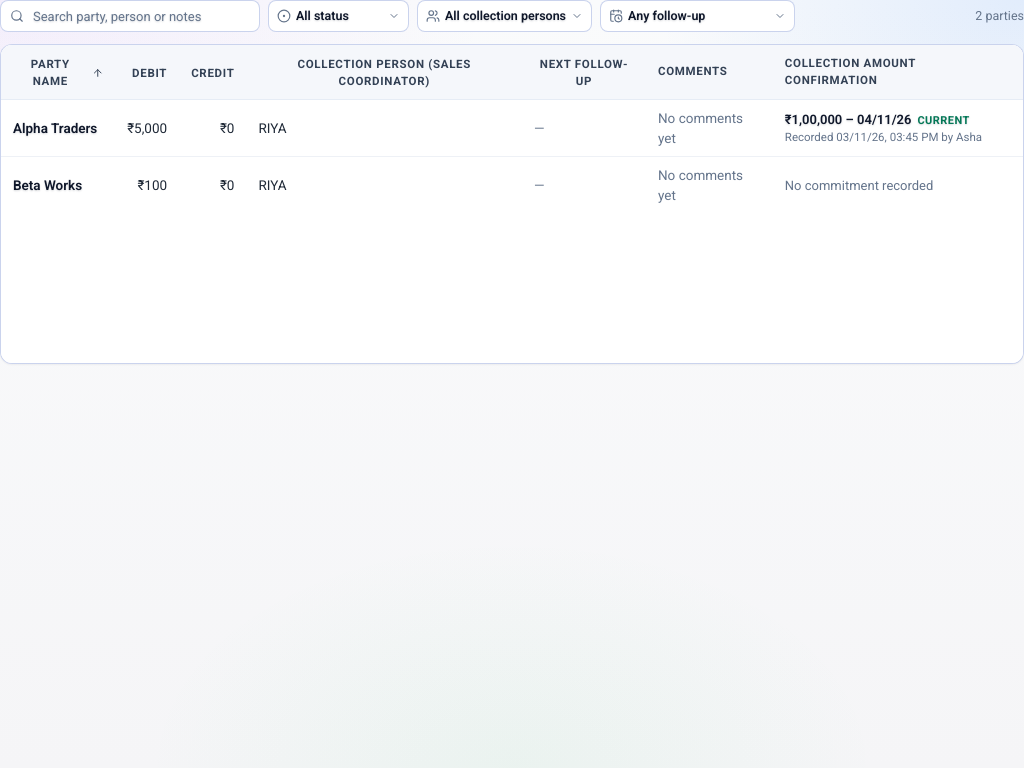
Test case: the popup's commitment history › a refused save keeps the history as it was and refreshes nothing
This screenshot has width=1024, height=768.
Click the button "Alpha Traders": {"x": 55, "y": 128} x1=13 y1=118 x2=97 y2=138
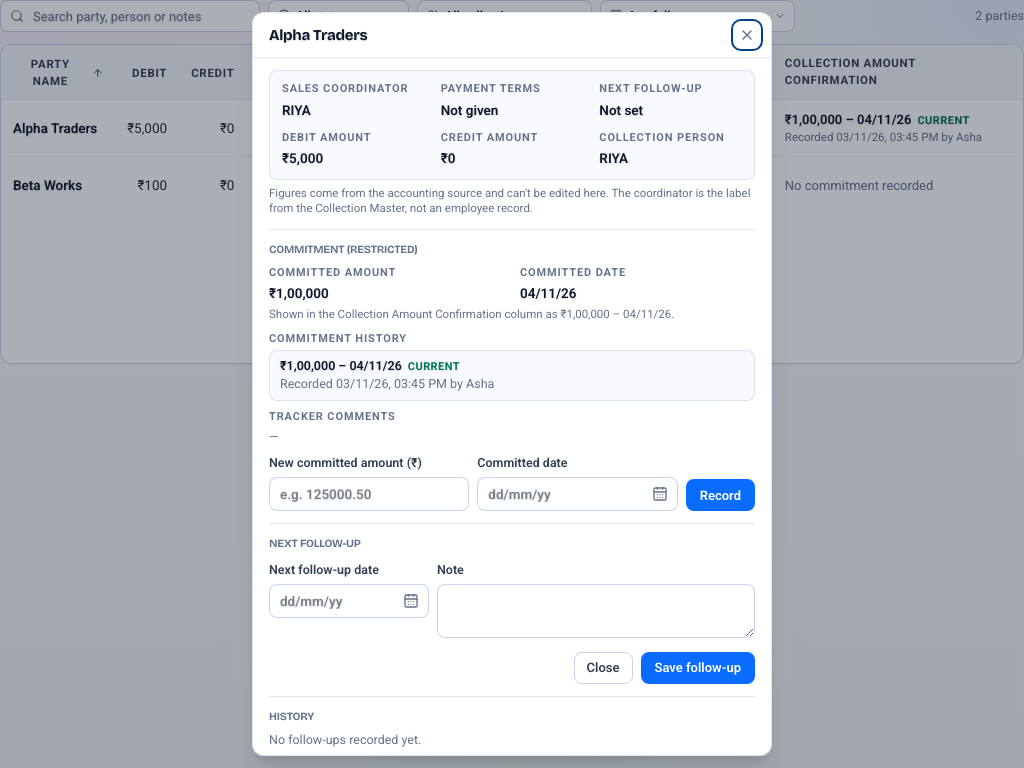
Expected: the list named "Commitment history" is shown, x1=269 y1=350 x2=755 y2=401
In the field named "Committed amount for Alpha Traders": {"x": 369, "y": 494} x1=269 y1=477 x2=469 y2=512, type "1"
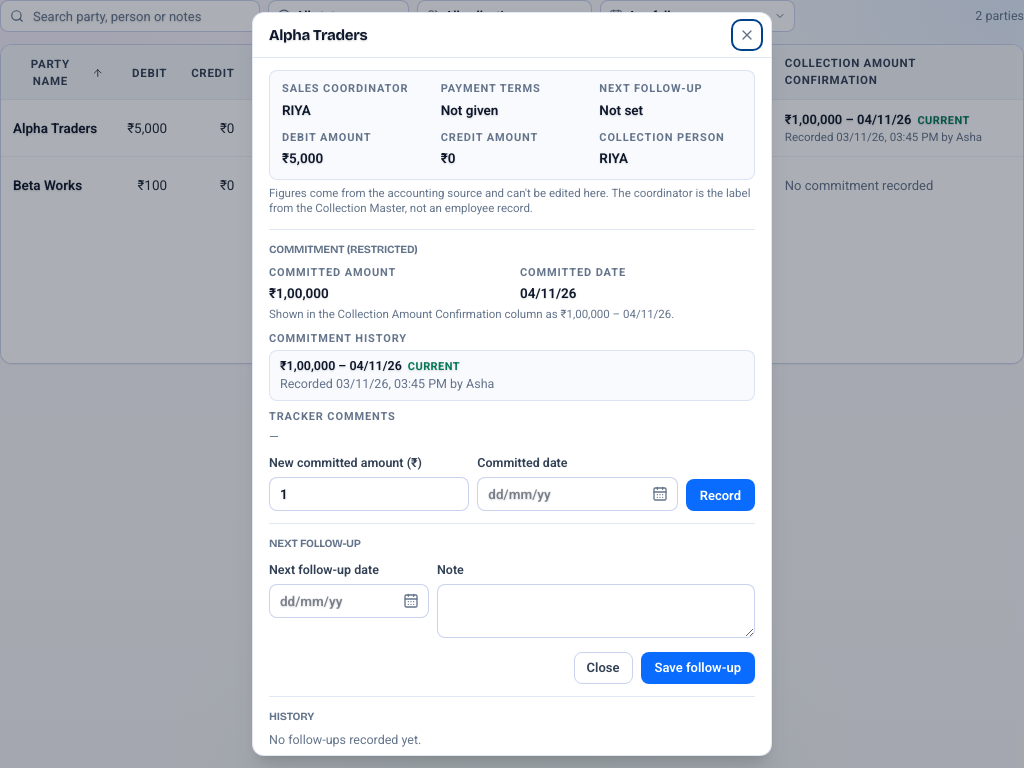
In the field named "Committed date for Alpha Traders": {"x": 578, "y": 494} x1=477 y1=477 x2=678 y2=512, type "2026-11-20"
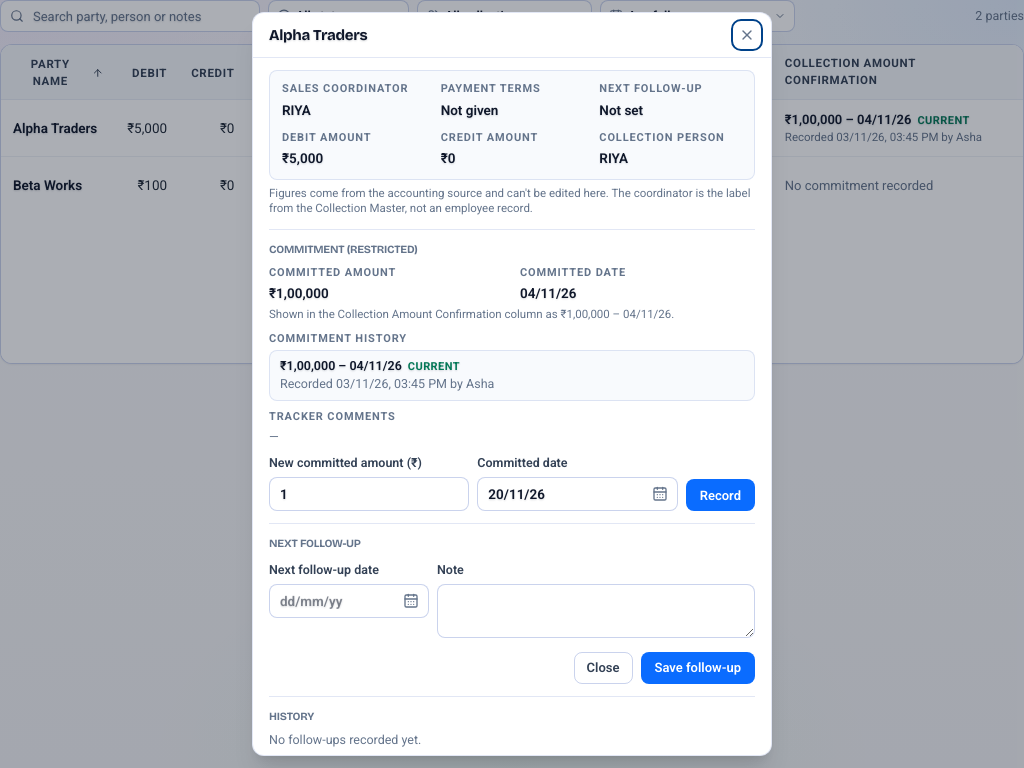
Click the button "Record": {"x": 720, "y": 495} x1=686 y1=479 x2=755 y2=511
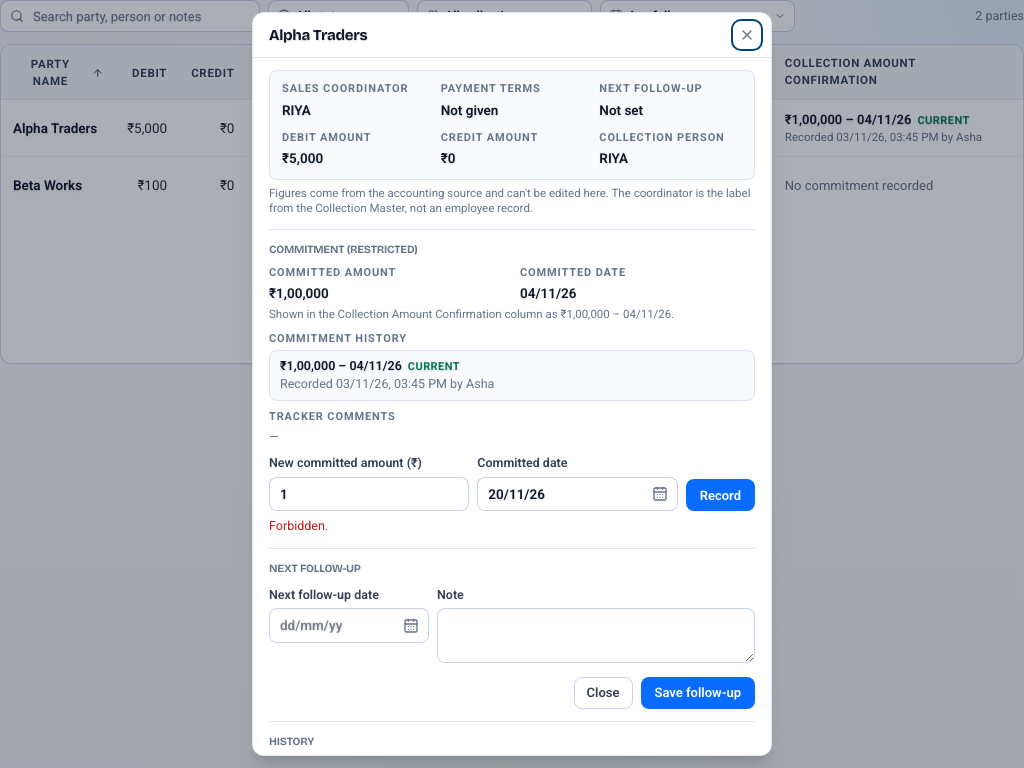
Expected: the number of list items is 1, x1=269 y1=350 x2=755 y2=401
Expected: the list item shows "₹1,00,000 – 04/11/26", x1=280 y1=358 x2=402 y2=373
Expected: the message "Forbidden." is shown, x1=269 y1=518 x2=328 y2=533
